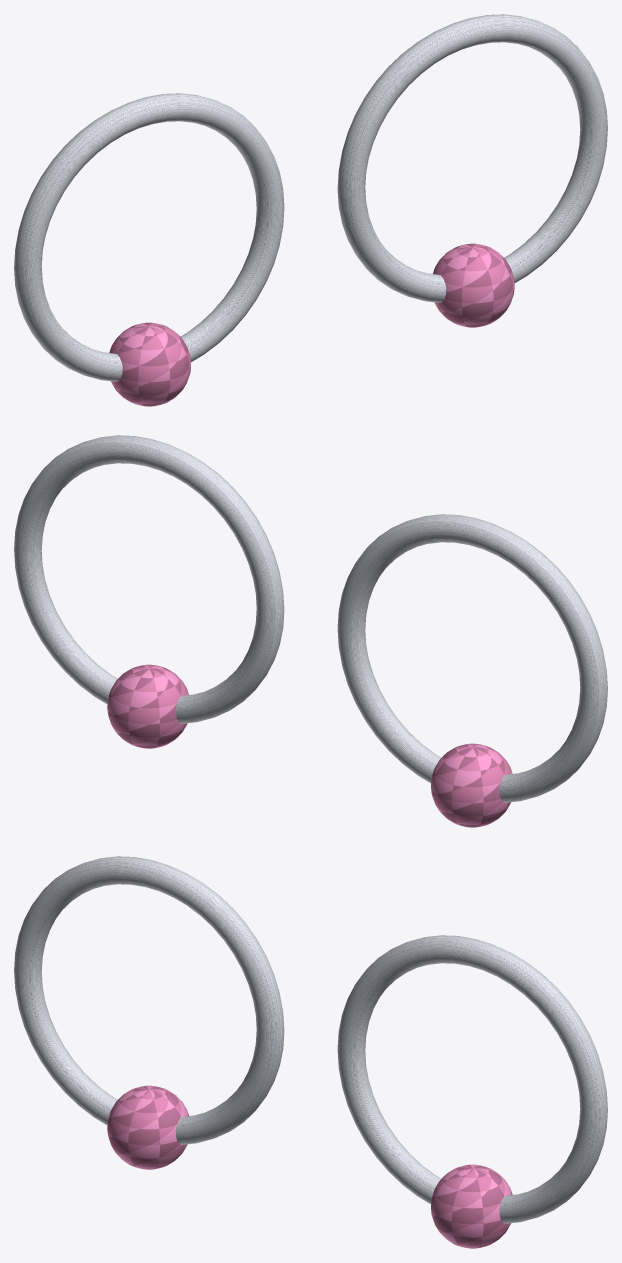
The model's file is earrings.glb.
3 views of the same model, one above another, from view 1: azimuth 30°, elevation 25°; view 2: azimuth 150°, elevation 25°; view 3: azimuth 330°, elevation 25° (orthographic).
Visible parts, largest first — view 1: Torus.002, Torus.001, Sphere, Sphere.001; view 2: Torus.002, Torus.001, Sphere, Sphere.001; view 3: Torus.001, Torus.002, Sphere.001, Sphere.
Boxes of the visible parts, x1,y1,x2,y2 form: Torus.002: [337, 14, 607, 302]; Torus.001: [14, 93, 284, 381]; Sphere: [109, 322, 190, 406]; Sphere.001: [433, 243, 514, 327]; Torus.002: [14, 435, 284, 723]; Torus.001: [337, 514, 607, 802]; Sphere: [431, 743, 512, 827]; Sphere.001: [107, 664, 188, 748]; Torus.001: [14, 856, 284, 1144]; Torus.002: [337, 935, 607, 1223]; Sphere.001: [431, 1164, 512, 1248]; Sphere: [107, 1085, 188, 1169].
Bounding box in the file's own units: 2.92 × 1.44 × 0.36.
2 materials, 2 textured.
